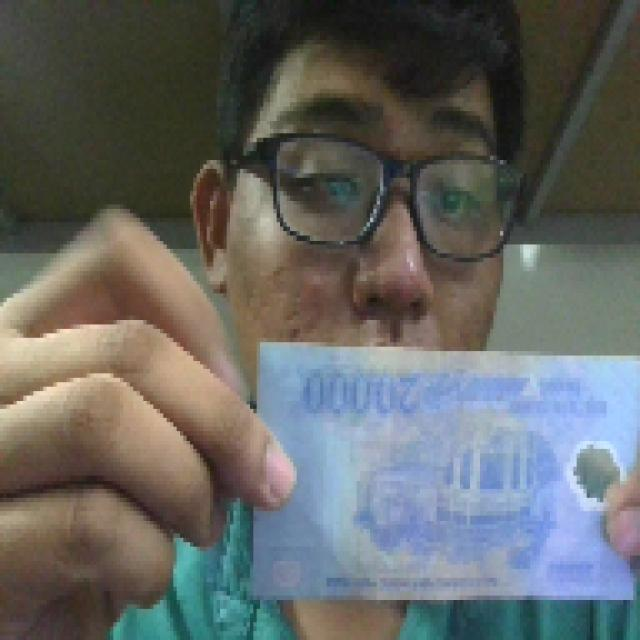20 000 VND: (246, 333, 636, 609)
